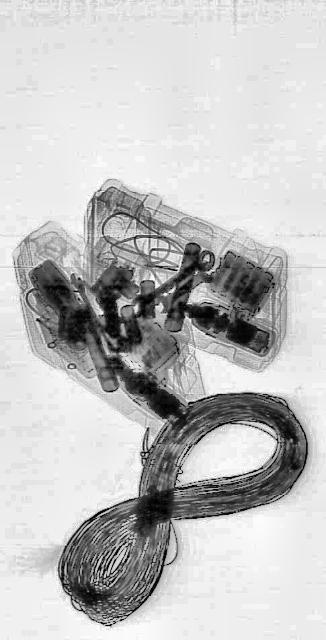Wrench: (129, 240, 217, 320), (68, 264, 118, 358), (156, 257, 217, 317)
